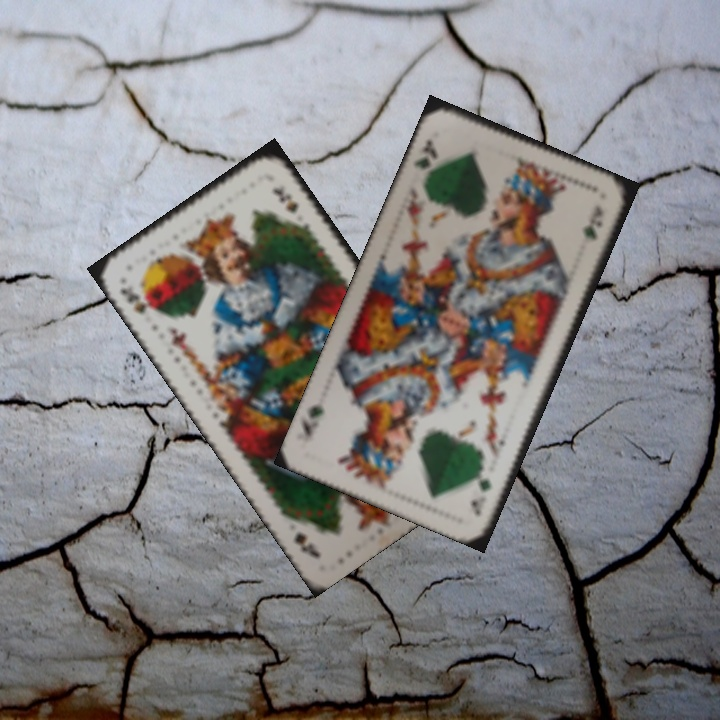GK: (466, 474, 494, 518), (409, 135, 440, 172)
SK: (116, 283, 159, 317)
